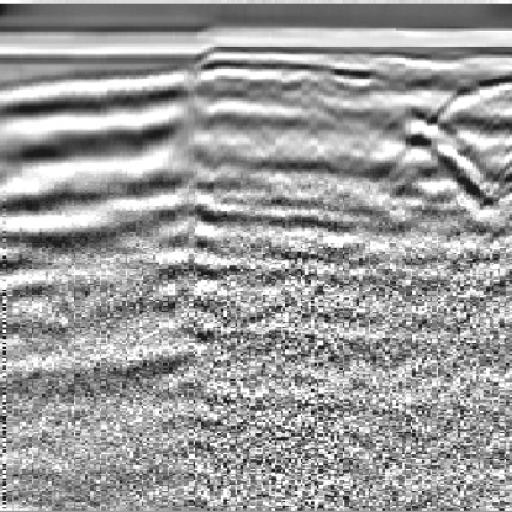metalic: (413, 66, 512, 315)
